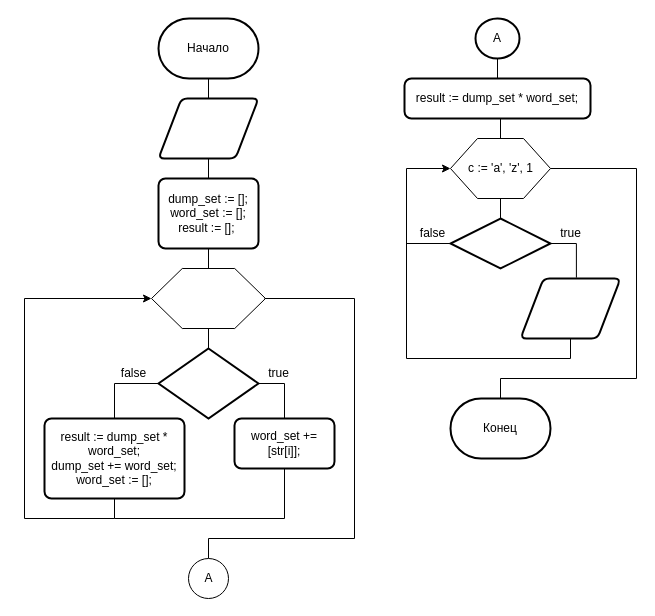
Some shapes in this 655 by 616 pixel diagram are drawn without their labels. The shapes that lost their labels are listed below. From the top down, each one's centre as x and y in pixels, then its label:
At (x=208, y=128): "Ввод str".
At (x=500, y=243): "c in result".
At (x=208, y=298): "i := 1, length(str), 1".
At (x=570, y=308): "Вывод c".
At (x=208, y=383): "str[i] in ['a'..'z']".
